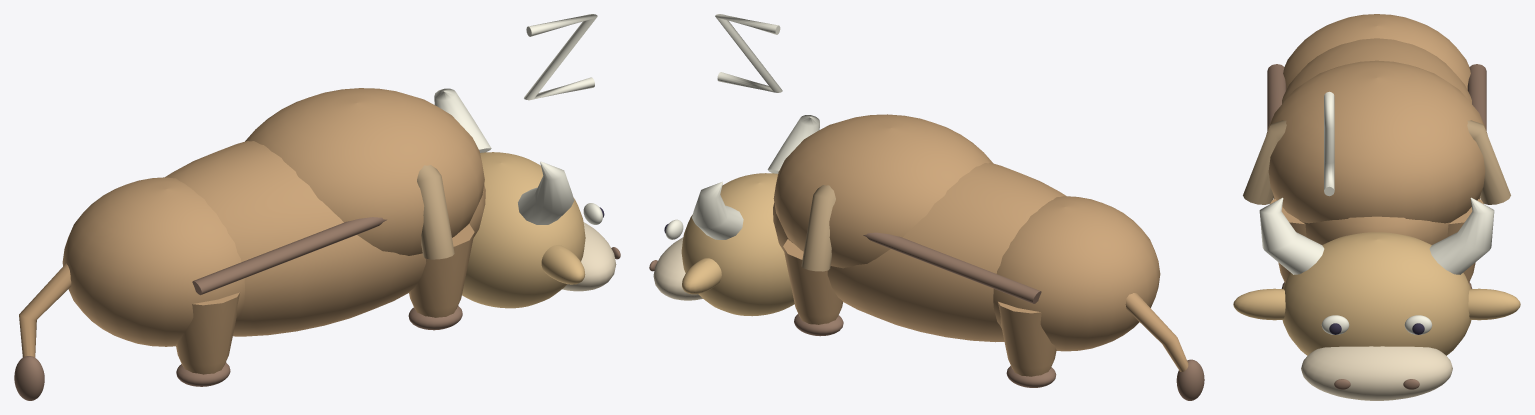
Rendered from conch_ox_sleep_equipped_YellowSleep.glb.
The picture shows the model from 3 angles, left to right: view 1: azimuth 30°, elevation 25°; view 2: azimuth 150°, elevation 25°; view 3: azimuth 270°, elevation 25°; orthographic projection. The views are drawn at different scales.
Size of the model in its own units: 27.65 by 13.02 by 12.06.
